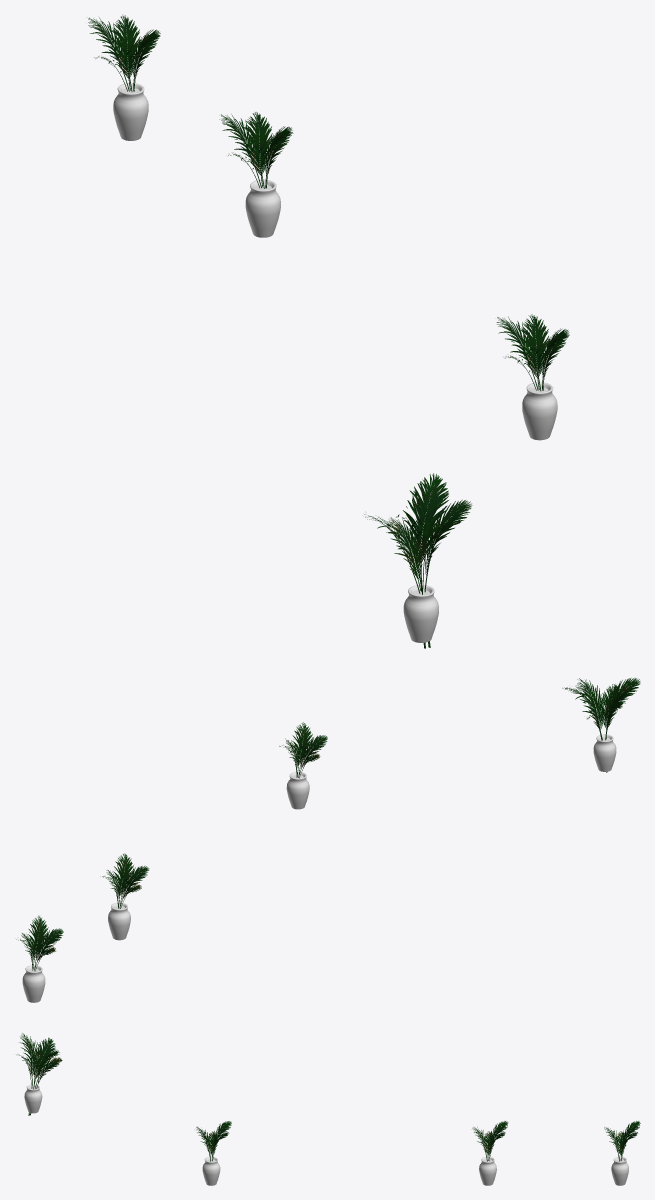
Rendered from VASE1.glb.
The picture shows the model from 3 angles, top to bottom: view 1: azimuth 30°, elevation 25°; view 2: azimuth 150°, elevation 25°; view 3: azimuth 270°, elevation 25°; orthographic projection. The views are drawn at different scales.
Parts seen in each view (by area): view 1: 1-VASE1; view 2: 1-VASE1; view 3: 1-VASE1.
Part boxes in pixels (box(x1,y1,x2,y2)): 1-VASE1: box(88, 15, 569, 648); 1-VASE1: box(16, 678, 640, 1002); 1-VASE1: box(18, 1033, 640, 1185).
Bounding box in the file's own units: 7.96 × 3.09 × 23.48.
